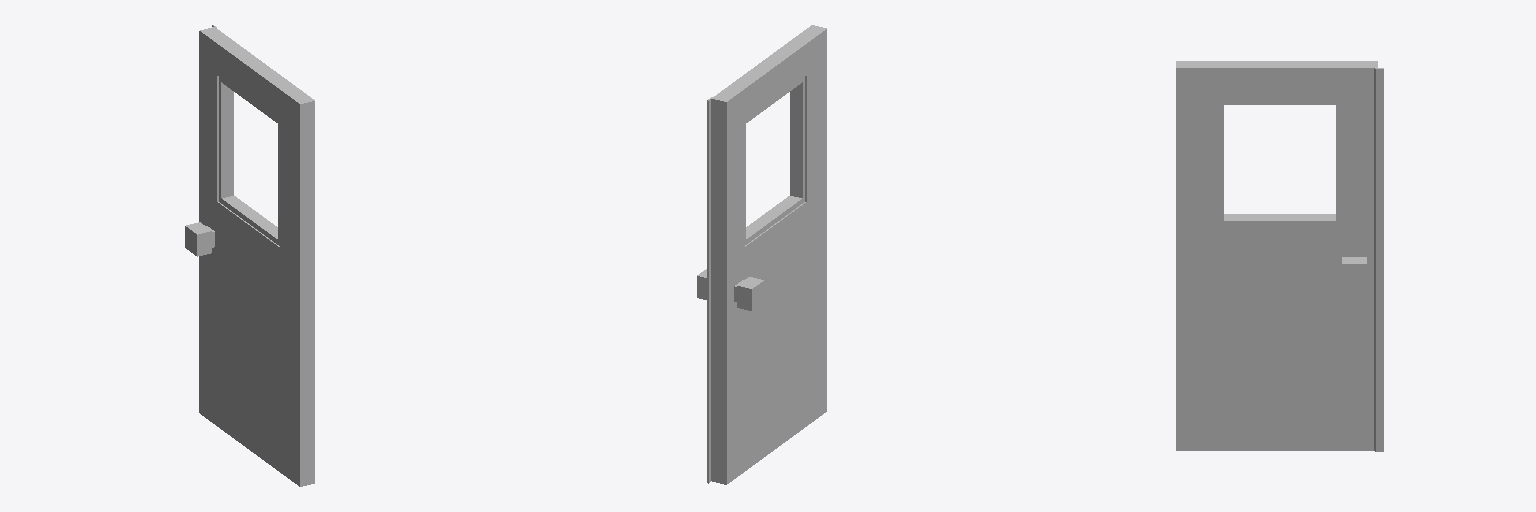
File: ScienceRoomLeftDoor.obj
The picture shows the model from 3 angles: view 1: azimuth 30°, elevation 25°; view 2: azimuth 150°, elevation 25°; view 3: azimuth 270°, elevation 25°; orthographic projection.
Visible parts, largest first — view 1: Box015; view 2: Box015; view 3: Box015.
Boxes of the visible parts, x1=… form: Box015: x1=185, y1=25, x2=314, y2=486; Box015: x1=697, y1=25, x2=826, y2=484; Box015: x1=1176, y1=61, x2=1383, y2=451.
Size of the model in its own units: 51.4 by 341 by 167.